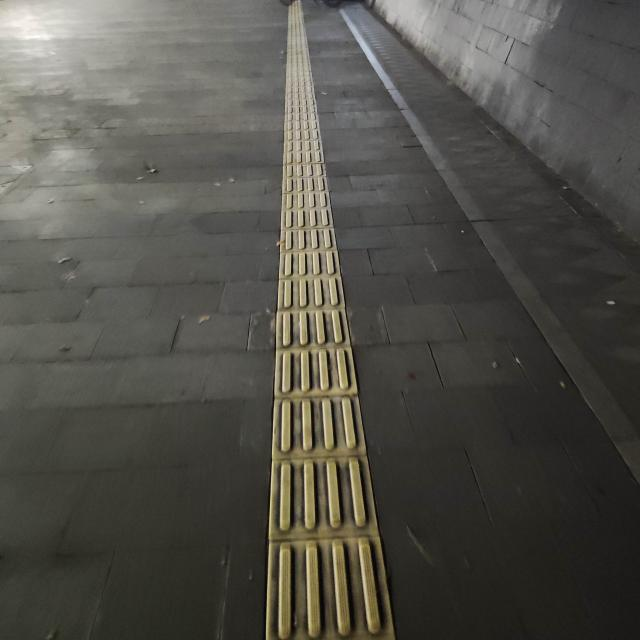lurus: (266, 50, 374, 640)
